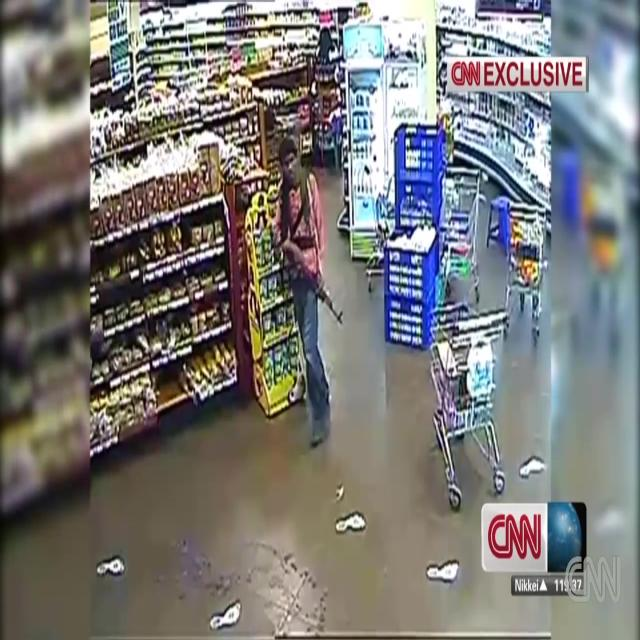Weapon: (275, 229, 350, 335)
